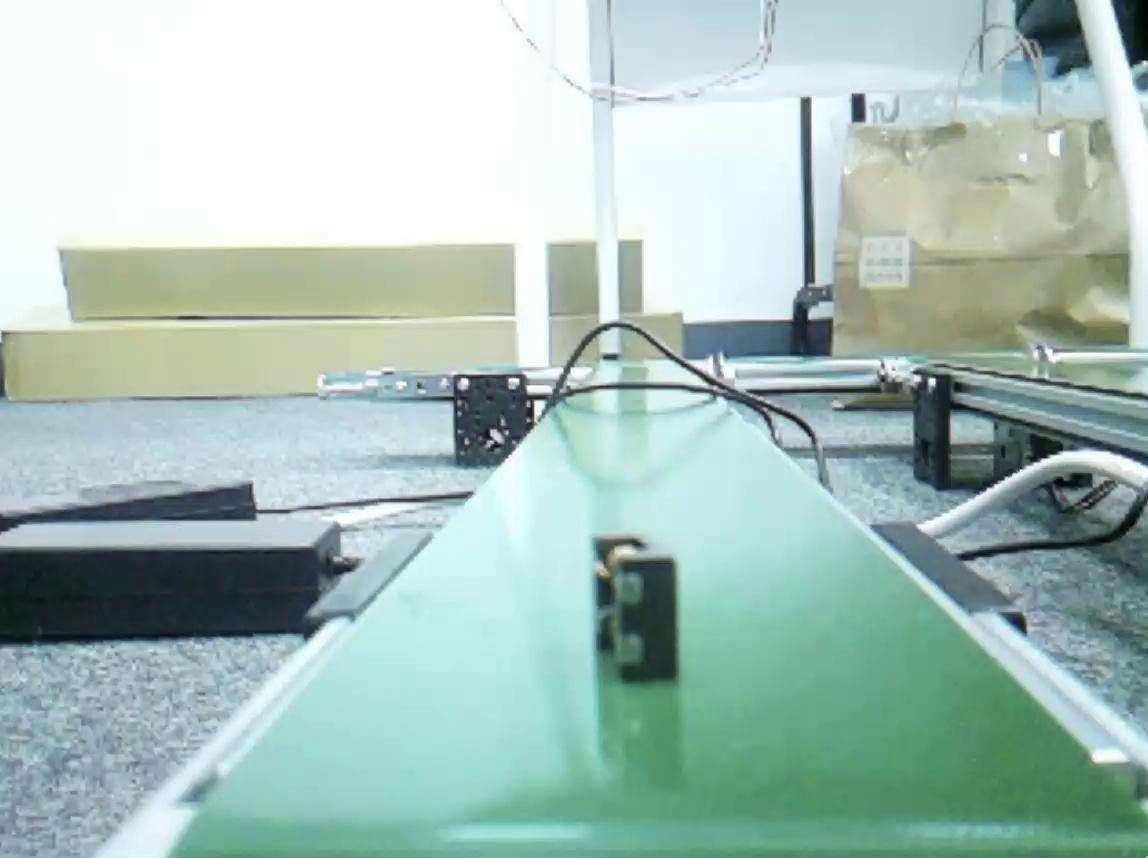inductor: (597, 530, 671, 687)
